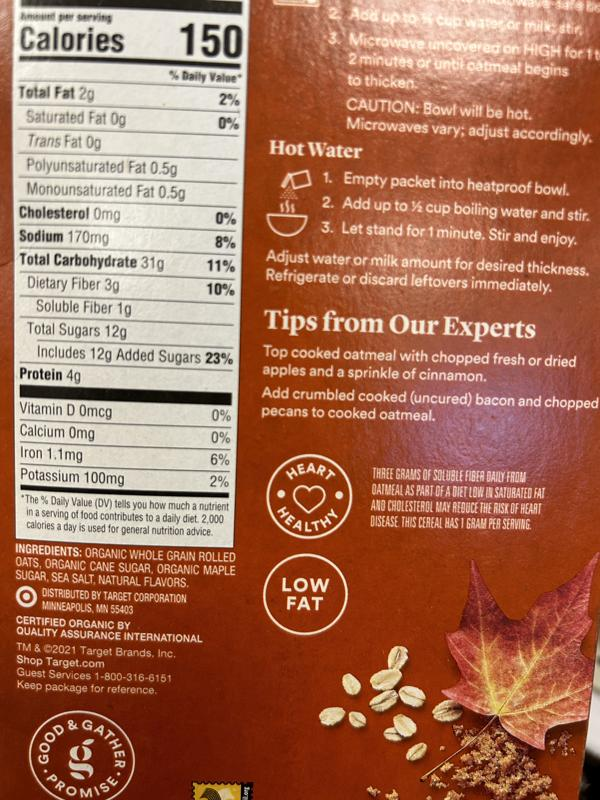ingredients: (12, 541, 237, 589)
